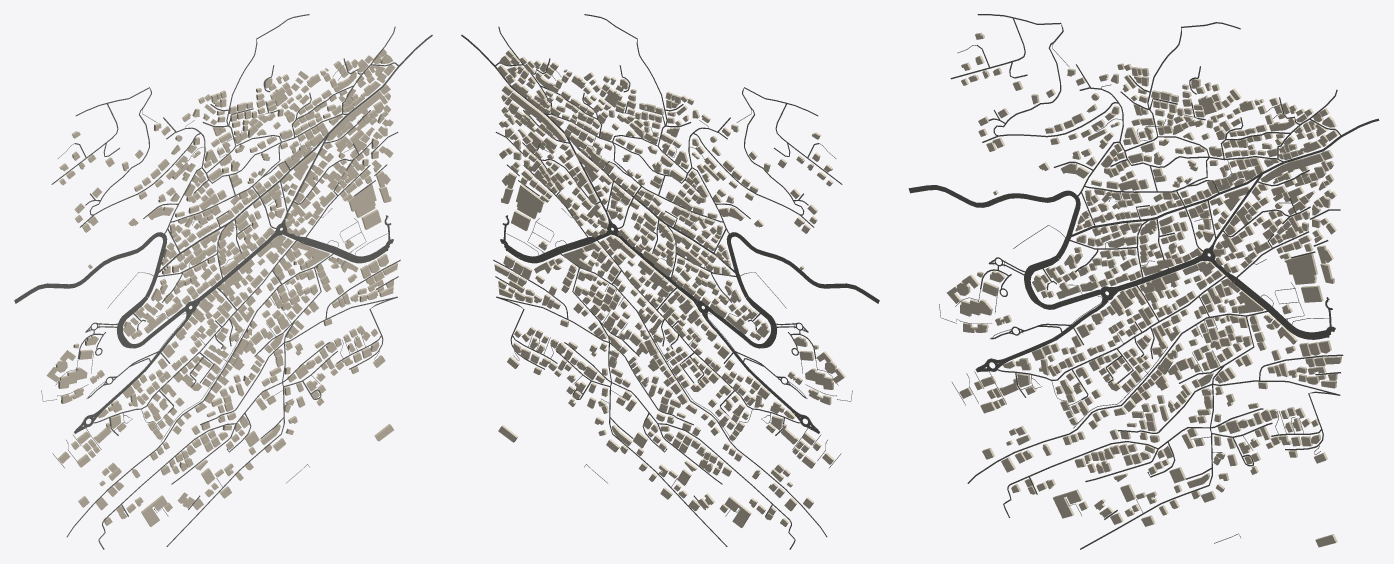
The model's file is historic-palestine-16_38_3576_3326.glb.
The picture shows the model from 3 angles, left to right: view 1: azimuth 30°, elevation 25°; view 2: azimuth 150°, elevation 25°; view 3: azimuth 330°, elevation 25°; orthographic projection. The views are drawn at different scales.
Parts seen in each view (by area): view 1: Road .029, Road .036, Road .013, Building_.087; view 2: Building_.087, Road .036, Road .029, Road .013, Building_.038; view 3: Building_.087, Road .013, Road .036, Road .029, Building_.038, Road .001.
Boxes of the visible parts, x1=… form: Road .029: x1=66, y1=252, x2=334, y2=537; Road .036: x1=75, y1=87, x2=200, y2=215; Road .013: x1=170, y1=14, x2=309, y2=222; Building_.087: x1=347, y1=183, x2=376, y2=217; Building_.087: x1=516, y1=184, x2=545, y2=218; Road .036: x1=693, y1=87, x2=818, y2=215; Road .029: x1=559, y1=252, x2=827, y2=537; Road .013: x1=584, y1=14, x2=723, y2=222; Building_.038: x1=509, y1=91, x2=566, y2=142; Building_.087: x1=1284, y1=253, x2=1317, y2=284; Road .013: x1=1084, y1=22, x2=1240, y2=192; Road .036: x1=977, y1=14, x2=1118, y2=137; Road .029: x1=967, y1=310, x2=1268, y2=483; Building_.038: x1=1260, y1=153, x2=1324, y2=182; Road .001: x1=1068, y1=173, x2=1262, y2=237.
Size of the model in its own units: 1199 by 1367 by 8.7.
